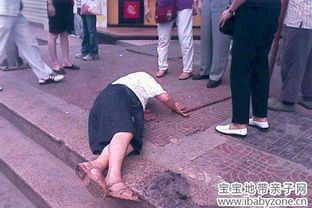fall: (73, 64, 196, 203)
